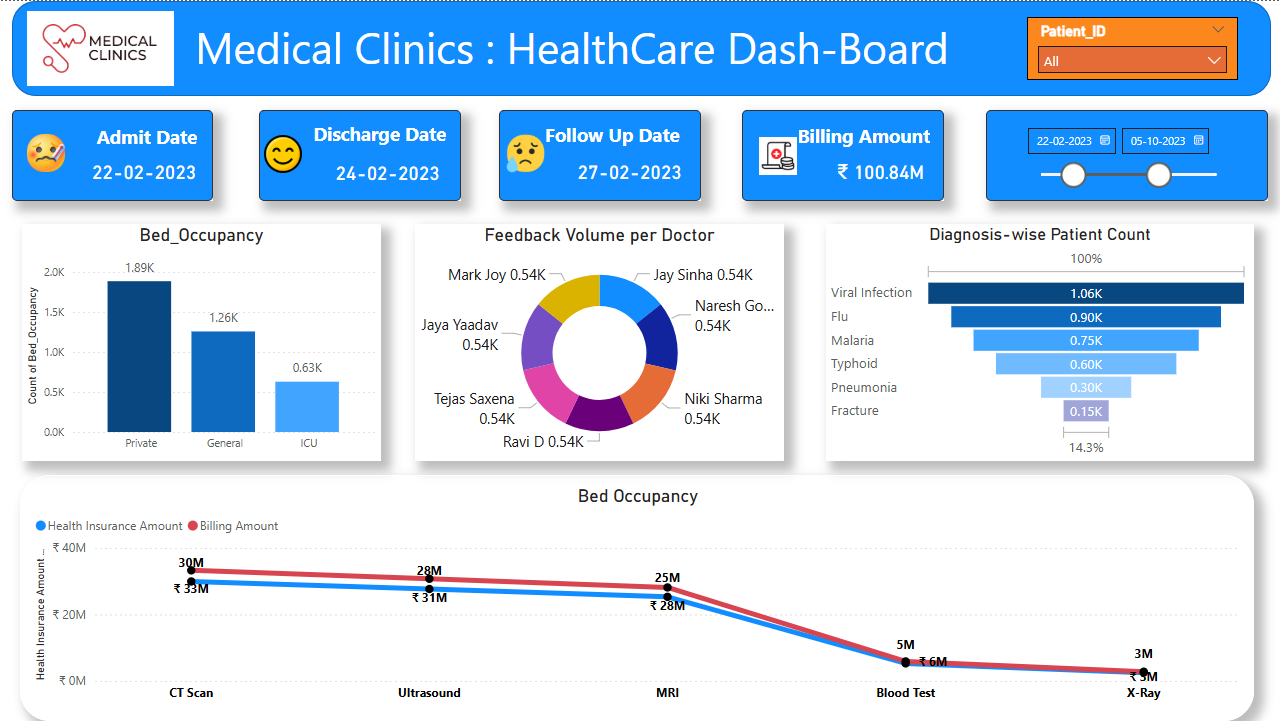

The page's visual inventory and layout, read from the dashboard file:
{"tool":"powerbi","page":{"name":"Page 1","canvas":[1280,720],"ordinal":0},"visuals":[{"type":"shape","box":[12.1,0,1258.6,94.9],"z":0},{"type":"image","box":[22.2,0,156.6,94.9],"z":1000},{"type":"textbox","box":[189.9,12.1,820.2,69.7],"z":2000},{"type":"slicer","fields":{"Values":["Sheet1.Patient_ID"]},"box":[1027.3,16.2,211.1,62.6],"z":3000},{"type":"shape","box":[12.1,109.1,201,90.9],"z":4000},{"type":"shape","box":[258.6,109.1,202,90.9],"z":5000},{"type":"shape","box":[499,109.1,202,90.9],"z":6000},{"type":"shape","box":[742.4,109.1,202,90.9],"z":7000},{"type":"shape","box":[985.9,109.1,281.8,90.9],"z":8000},{"type":"card","fields":{"Values":["Sheet1.Admit_Date"]},"box":[80.8,151.5,126.3,38.4],"z":9000},{"type":"textbox","box":[80.7,117.9,121.5,36.3],"z":10000},{"type":"card","fields":{"Values":["Sheet1.Discharge_Date"]},"box":[324.2,152.5,126.3,38.4],"z":11000},{"type":"textbox","box":[294.9,115.2,155.6,36.4],"z":12000},{"type":"textbox","box":[540.4,116.2,151.5,36.4],"z":13000},{"type":"card","fields":{"Values":["Sheet1.Followup Date"]},"box":[566.7,151.5,125.3,38.4],"z":14000},{"type":"card","fields":{"Values":["Sheet1.Billing Amount"]},"box":[826.3,151.5,109.1,38.4],"z":15000},{"type":"textbox","box":[777.8,117.2,157.6,36],"z":16000},{"type":"slicer","fields":{"Values":["Sheet1.Admit_Date"]},"box":[1015.2,117.2,223.2,78.8],"z":17000},{"type":"columnChart","title":"Bed_Occupancy","fields":{"Category":["Sheet1.Bed_Occupancy"],"Y":["Sheet1.Bed_Occupancy"]},"box":[22.2,223.2,358.6,236.4],"z":18000},{"type":"donutChart","title":"Feedback Volume per Doctor ","fields":{"Category":["Sheet1.Doctor"],"Y":["Sheet1.Doctor"]},"box":[415.2,223.2,368.7,236.4],"z":19000},{"type":"funnel","title":"Diagnosis-wise Patient Count","fields":{"Category":["Sheet1.Diagnosis"],"Y":["Sheet1.Diagnosis"]},"box":[826.3,223.2,427.3,236.4],"z":20000},{"type":"lineChart","title":"Bed Occupancy","fields":{"Y":["Sheet1.Health Insurance Amount","Sheet1.Billing Amount"],"Category":["Sheet1.Test"]},"box":[20.2,473.7,1233.3,246.5],"z":21000},{"type":"image","box":[20.2,128.3,50.5,47.5],"z":22000},{"type":"image","box":[258.6,128.3,48.5,48.5],"z":23000},{"type":"image","box":[499,127.3,52.5,50.5],"z":24000},{"type":"image","box":[753.5,130.3,48.5,48.5],"z":25000}]}

Visuals, with their boxes in screenshot pixels (x1, y1, x2, y2), scaled from the page's 1280x720 canvas onto the 1280x721 screenshot:
shape: detection(12, 0, 1271, 95)
image: detection(22, 0, 179, 95)
textbox: detection(190, 12, 1010, 82)
slicer - Sheet1.Patient_ID: detection(1027, 16, 1238, 79)
shape: detection(12, 109, 213, 200)
shape: detection(259, 109, 461, 200)
shape: detection(499, 109, 701, 200)
shape: detection(742, 109, 944, 200)
shape: detection(986, 109, 1268, 200)
card - Sheet1.Admit_Date: detection(81, 152, 207, 190)
textbox: detection(81, 118, 202, 154)
card - Sheet1.Discharge_Date: detection(324, 153, 450, 191)
textbox: detection(295, 115, 450, 152)
textbox: detection(540, 116, 692, 153)
card - Sheet1.Followup Date: detection(567, 152, 692, 190)
card - Sheet1.Billing Amount: detection(826, 152, 935, 190)
textbox: detection(778, 117, 935, 153)
slicer - Sheet1.Admit_Date: detection(1015, 117, 1238, 196)
"Bed_Occupancy" columnChart: detection(22, 224, 381, 460)
"Feedback Volume per Doctor " donutChart: detection(415, 224, 784, 460)
"Diagnosis-wise Patient Count" funnel: detection(826, 224, 1254, 460)
"Bed Occupancy" lineChart: detection(20, 474, 1254, 720)
image: detection(20, 128, 71, 176)
image: detection(259, 128, 307, 177)
image: detection(499, 127, 552, 178)
image: detection(754, 130, 802, 179)
